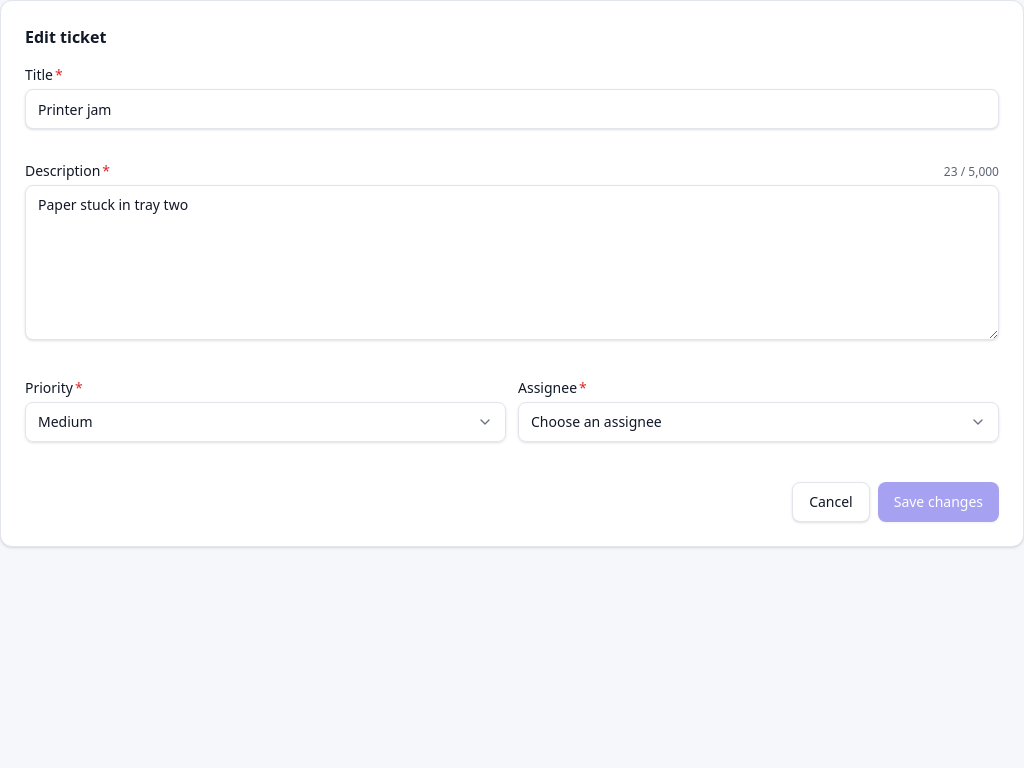
Test: TicketEditPanel › validates like create
Clear the field labelled "Title*" at (512, 109), box [25,89,999,129]
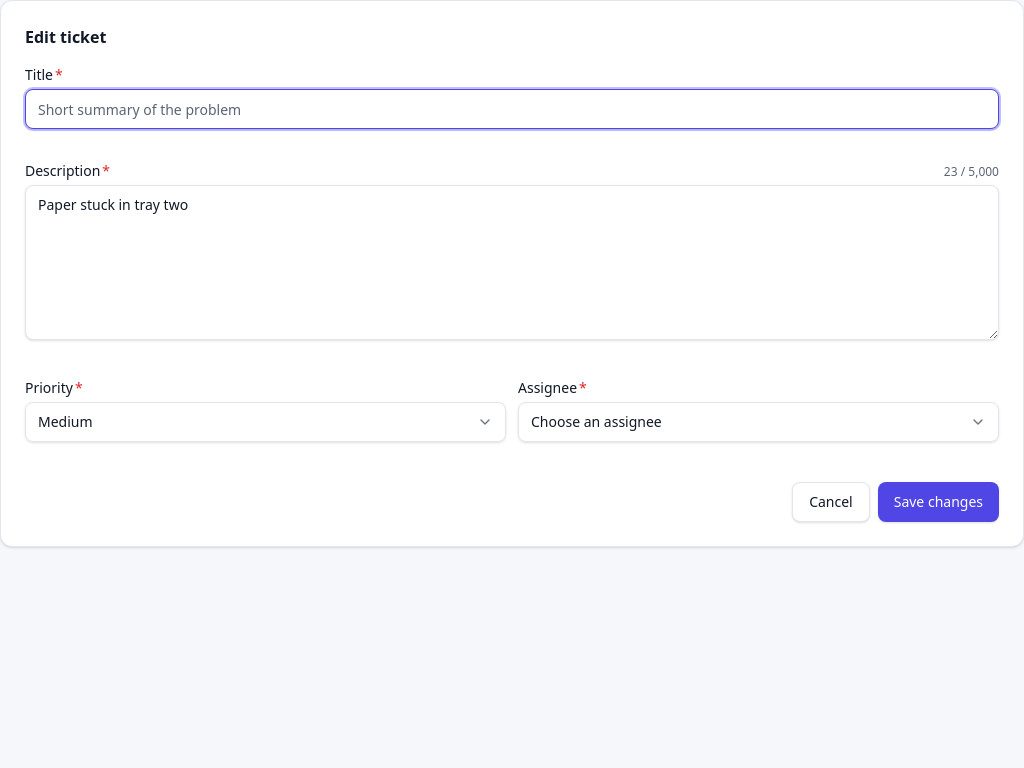
Click the button "Save changes" at (938, 502), box [878,482,999,522]
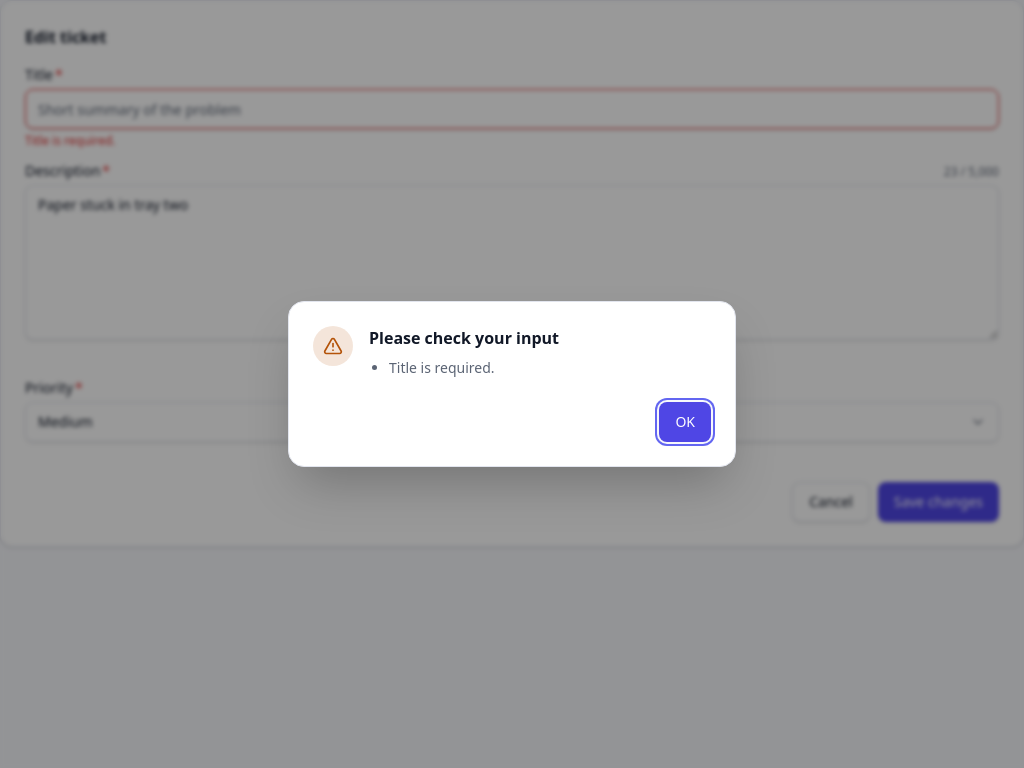
Expected: the dialog shows "Title is required.", [389,358,495,377]
